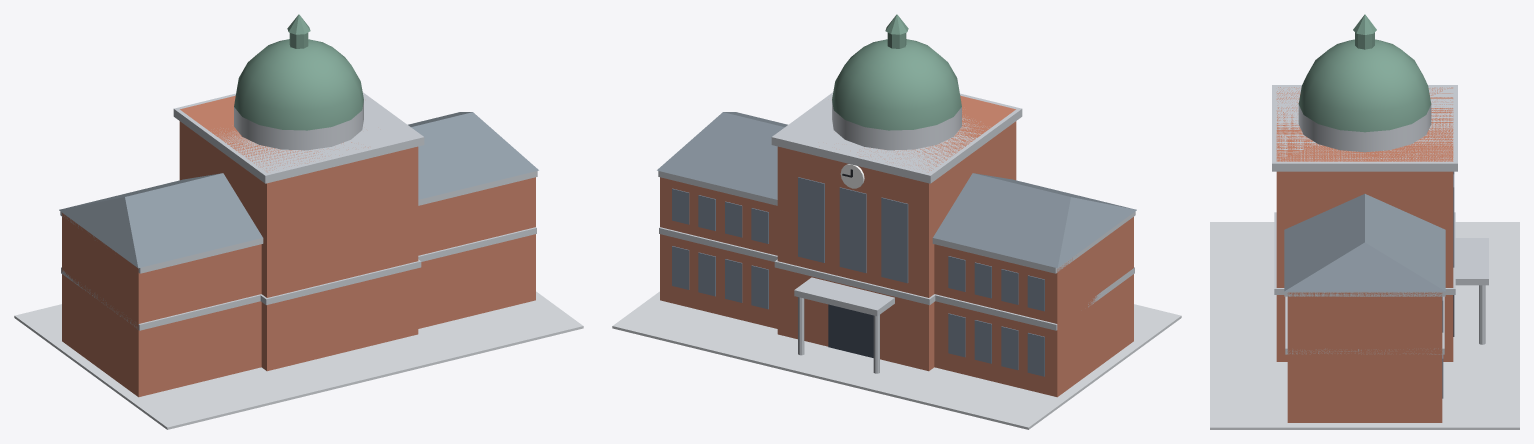
Rendered from old_station.glb.
The picture shows the model from 3 angles, left to right: view 1: azimuth 30°, elevation 25°; view 2: azimuth 150°, elevation 25°; view 3: azimuth 270°, elevation 25°; orthographic projection.
Visible parts, largest first — view 1: Body; view 2: Body; view 3: Body.
Part boxes in pixels (left/top/right/bottom): Body: left=14, top=14, right=583, bottom=429; Body: left=612, top=14, right=1181, bottom=429; Body: left=1210, top=14, right=1519, bottom=429.
Size of the model in its own units: 22 by 15.62 by 14.
